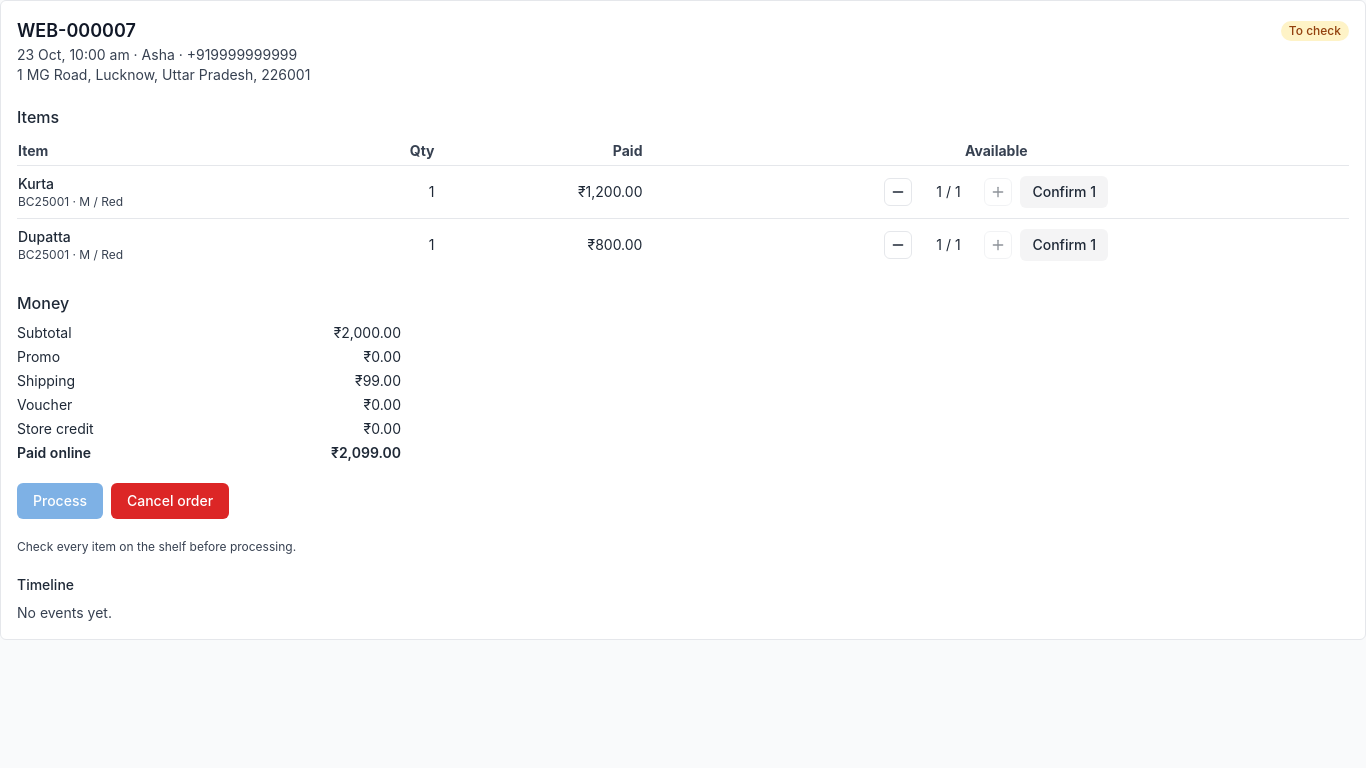
Process stays disabled until every line has been set
expect the text "Kurta" is shown: met, box [18, 175, 54, 192]
expect the button "Process" is disabled: met, box [17, 483, 103, 519]
Click the button "Confirm 1" in the row of "Kurta". click: click(1064, 192)
box: [1020, 176, 1108, 208]
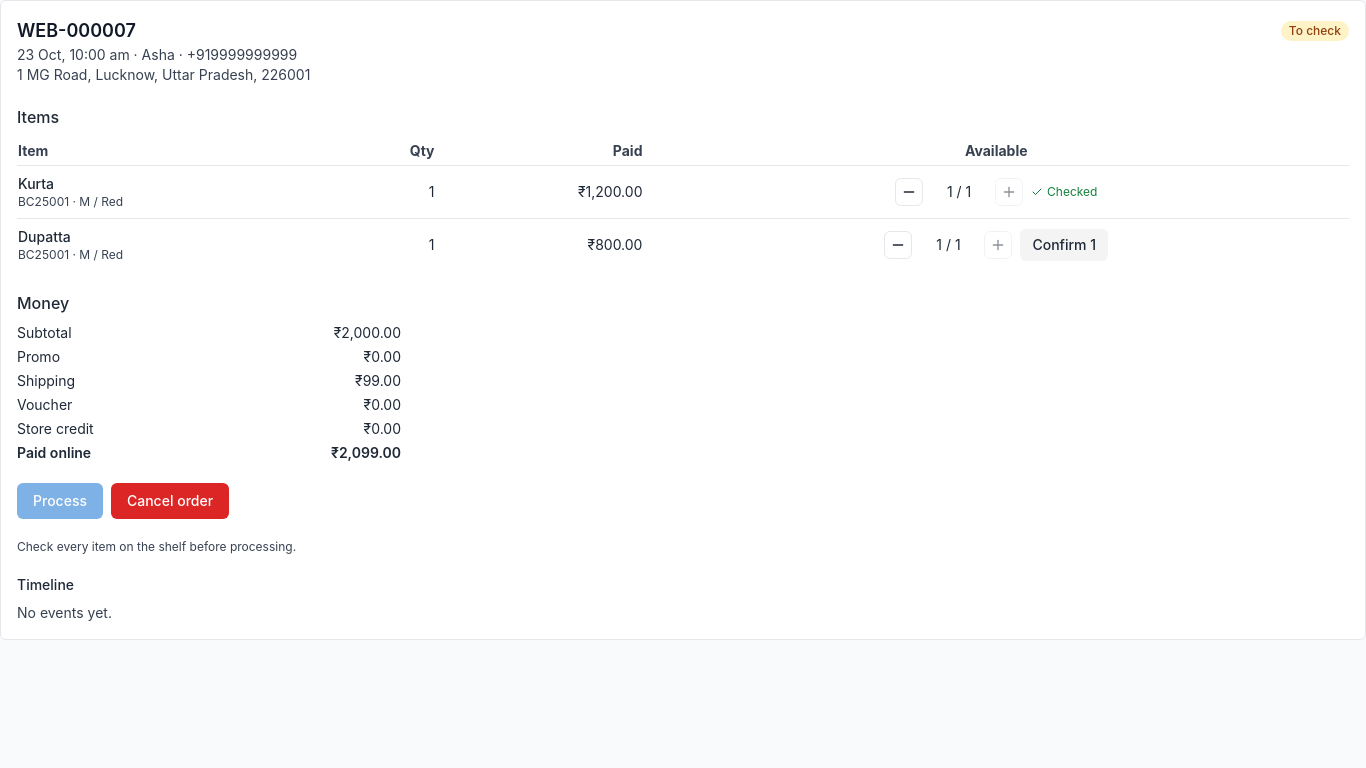
expect the button "Process" is disabled: met, box [17, 483, 103, 519]
Click the button "Confirm 1". click: click(1064, 245)
box: [1020, 229, 1108, 261]
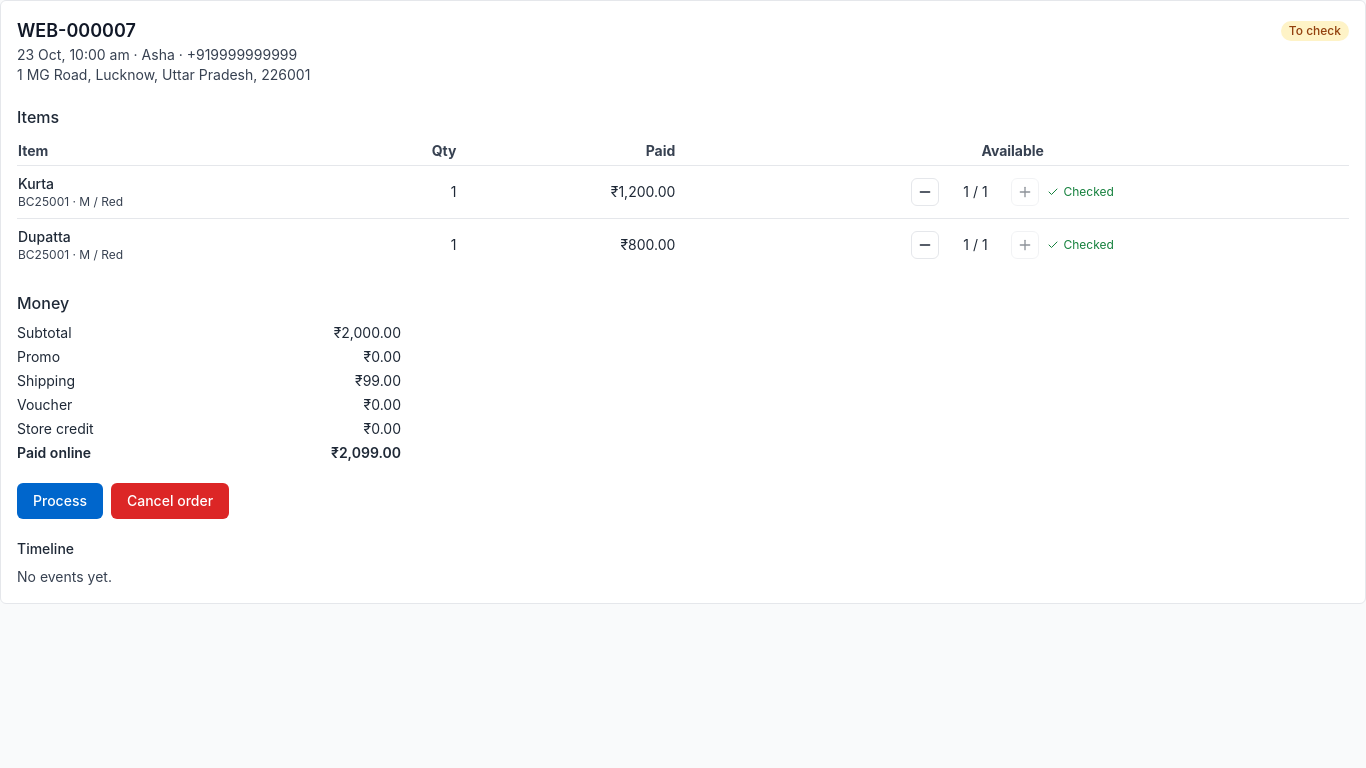
expect the button "Process" is enabled: met, box [17, 483, 103, 519]
